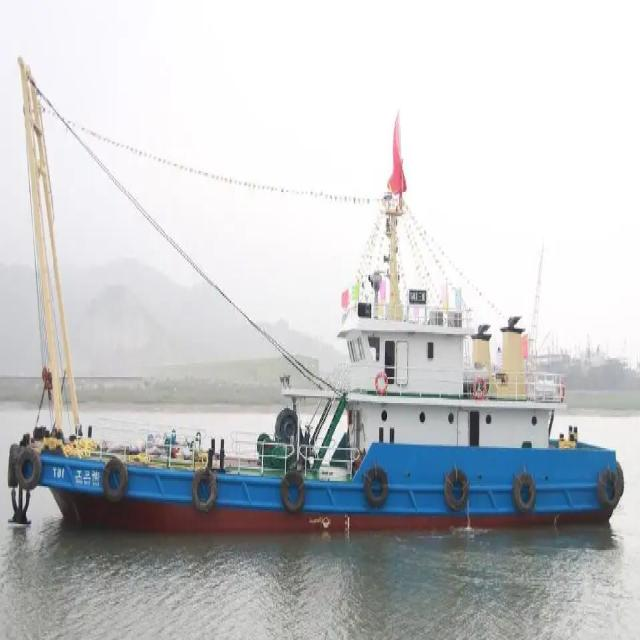fishing boat: (14, 163, 618, 545)
